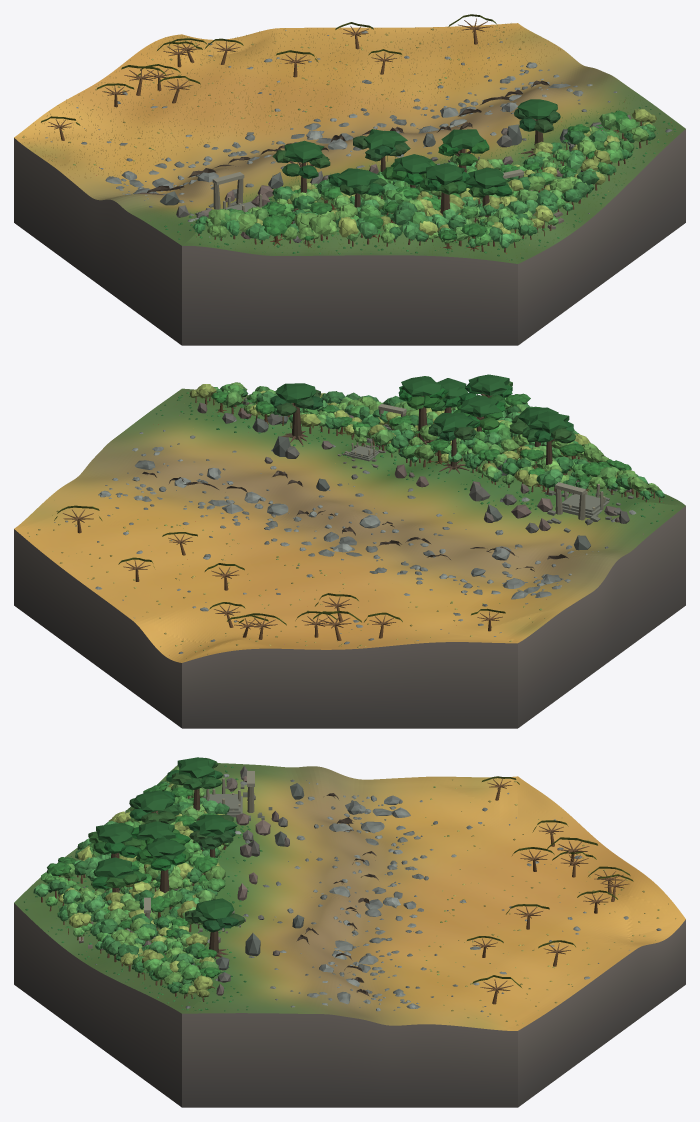
3 views of the same model, one above another, from view 1: azimuth 30°, elevation 25°; view 2: azimuth 150°, elevation 25°; view 3: azimuth 270°, elevation 25° (orthographic).
Parts seen in each view (by area): view 1: terrain, hex_side_cut, broadleaf_canopy, ancient-crowns, boulders, wildflowers, fault-stone, trunks, branches, shrubs, rock_escarpments, ruin-masonry (+1 smaller); view 2: terrain, hex_side_cut, broadleaf_canopy, ancient-crowns, boulders, fault-stone, ruin-masonry, trunks, branches, shrubs, monumental-trunks, rock_escarpments (+1 smaller); view 3: terrain, hex_side_cut, broadleaf_canopy, ancient-crowns, boulders, fault-stone, branches, shrubs, ruin-masonry, trunks, monumental-trunks, rock_escarpments.
Part boxes in pixels (left/top/right/bottom): terrain: left=14, top=23, right=685, bottom=263; hex_side_cut: left=14, top=129, right=685, bottom=345; broadleaf_canopy: left=41, top=14, right=656, bottom=248; ancient-crowns: left=272, top=99, right=560, bottom=197; boulders: left=45, top=30, right=671, bottom=237; wildflowers: left=22, top=23, right=679, bottom=261; fault-stone: left=160, top=115, right=631, bottom=242; trunks: left=59, top=29, right=651, bottom=252; branches: left=47, top=18, right=491, bottom=247; shrubs: left=22, top=26, right=676, bottom=260; rock_escarpments: left=136, top=80, right=549, bottom=194; ruin-masonry: left=212, top=156, right=535, bottom=213; terrain: left=14, top=388, right=685, bottom=662; hex_side_cut: left=14, top=506, right=685, bottom=728; broadleaf_canopy: left=54, top=382, right=664, bottom=625; ancient-crowns: left=270, top=374, right=575, bottom=443; boulders: left=54, top=419, right=654, bottom=653; fault-stone: left=197, top=397, right=631, bottom=550; ruin-masonry: left=346, top=404, right=609, bottom=520; trunks: left=77, top=397, right=660, bottom=640; branches: left=63, top=400, right=586, bottom=629; shrubs: left=27, top=392, right=673, bottom=658; monumental-trunks: left=292, top=394, right=552, bottom=469; rock_escarpments: left=142, top=470, right=568, bottom=571; terrain: left=14, top=763, right=685, bottom=1030; hex_side_cut: left=14, top=903, right=685, bottom=1107; broadleaf_canopy: left=33, top=766, right=633, bottom=997; ancient-crowns: left=88, top=757, right=245, bottom=932; boulders: left=83, top=774, right=661, bottom=1016; fault-stone: left=132, top=766, right=304, bottom=995; branches: left=65, top=778, right=628, bottom=992; shrubs: left=24, top=765, right=675, bottom=1025; ruin-masonry: left=119, top=771, right=254, bottom=932; trunks: left=41, top=787, right=615, bottom=1004; monumental-trunks: left=111, top=788, right=218, bottom=953; rock_escarpments: left=296, top=793, right=378, bottom=996.
Size of the model in its own units: 4330 by 1342 by 5000.
